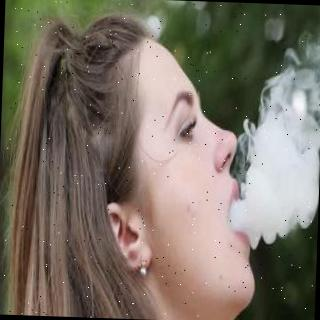smoke: (233, 66, 320, 241)
